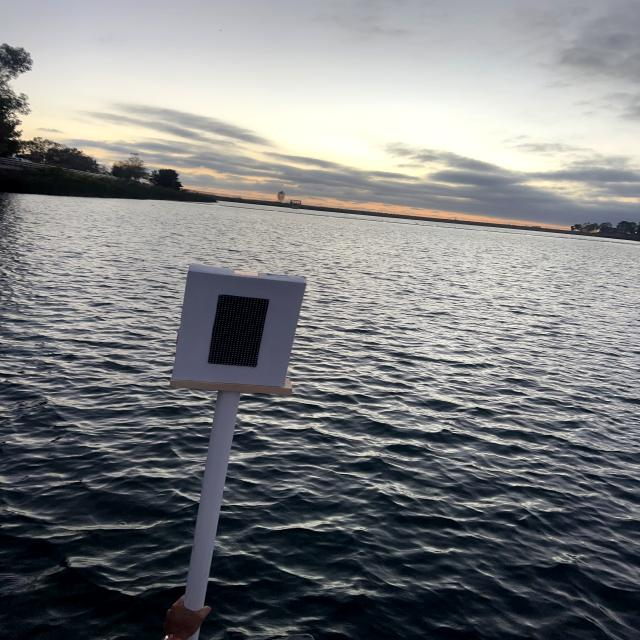led: (195, 280, 284, 384)
